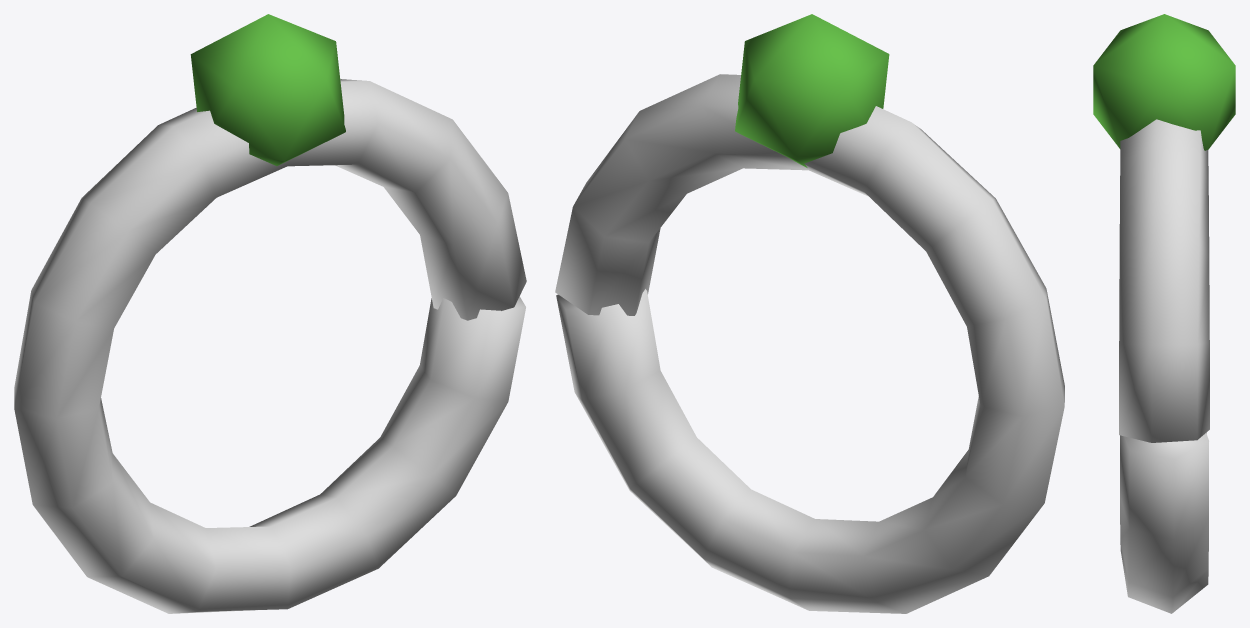
File: natures_gift.glb
The picture shows the model from 3 angles, left to right: view 1: azimuth 30°, elevation 25°; view 2: azimuth 150°, elevation 25°; view 3: azimuth 270°, elevation 25°; orthographic projection. The views are drawn at different scales.
Visible parts, largest first — view 1: natures_gift_v0; view 2: natures_gift_v0; view 3: natures_gift_v0.
Part boxes in pixels (box(x1,y1,x2,y2)): natures_gift_v0: box(14, 14, 526, 613); natures_gift_v0: box(555, 14, 1064, 613); natures_gift_v0: box(1093, 14, 1235, 613).
Bounding box in the file's own units: 0.1674 × 0.1889 × 0.0425.
